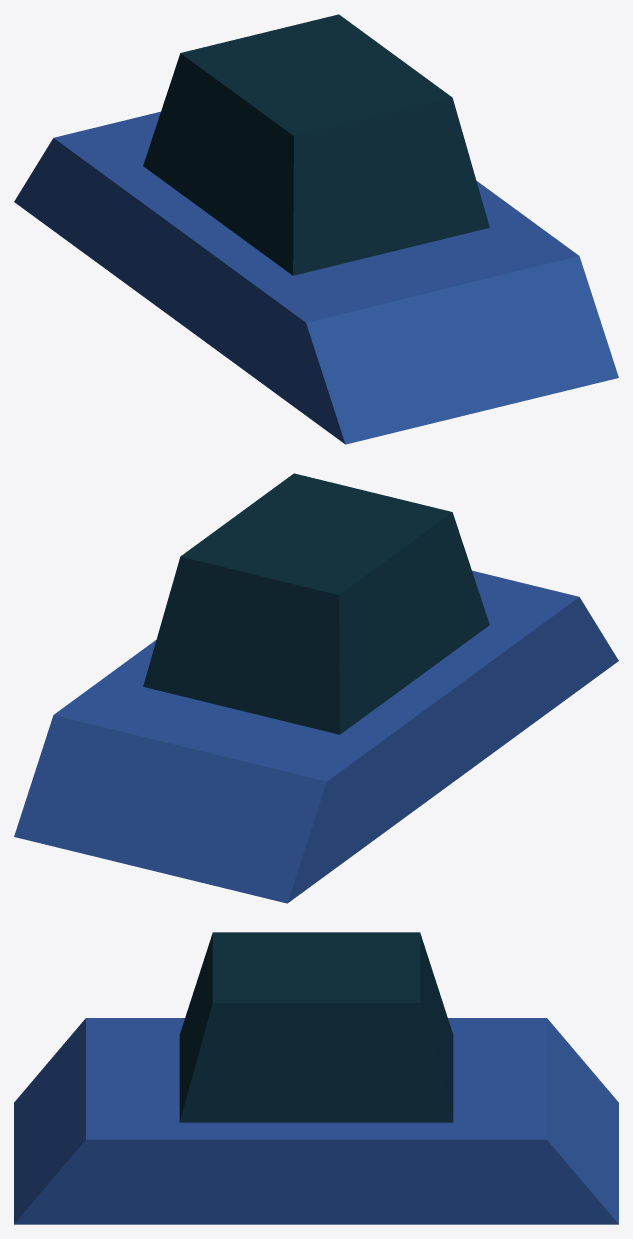
File: Car.obj
The picture shows the model from 3 angles, top to bottom: view 1: azimuth 30°, elevation 25°; view 2: azimuth 150°, elevation 25°; view 3: azimuth 270°, elevation 25°; orthographic projection. The views are drawn at different scales.
Parts seen in each view (by area): view 1: Body, Cabin; view 2: Body, Cabin; view 3: Body, Cabin.
Boxes of the visible parts, left/top/right/bottom form: Body: left=14, top=111, right=618, bottom=444; Cabin: left=143, top=14, right=489, bottom=275; Body: left=14, top=570, right=618, bottom=903; Cabin: left=143, top=473, right=489, bottom=734; Body: left=14, top=1018, right=618, bottom=1224; Cabin: left=179, top=932, right=453, bottom=1122.
Size of the model in its own units: 2 by 1.5 by 4.2.
